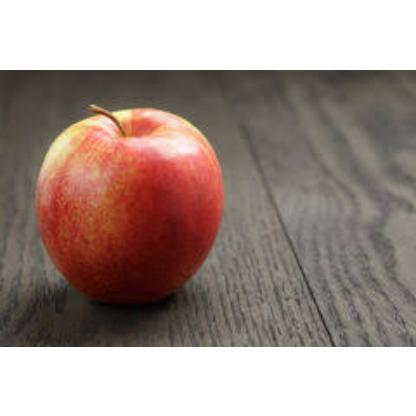apple: (38, 109, 222, 301)
